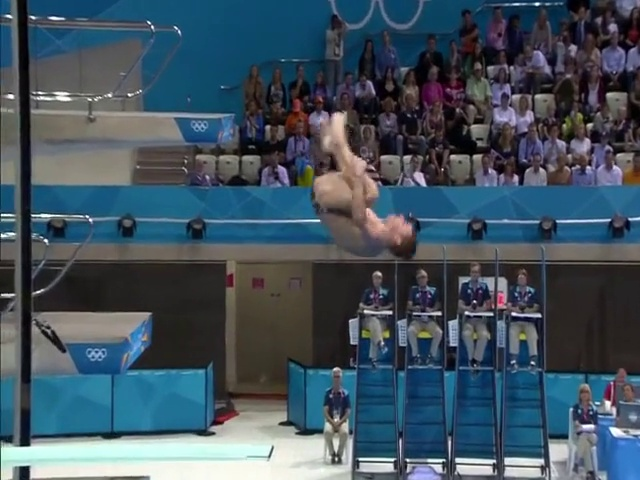diver: (310, 110, 417, 261)
